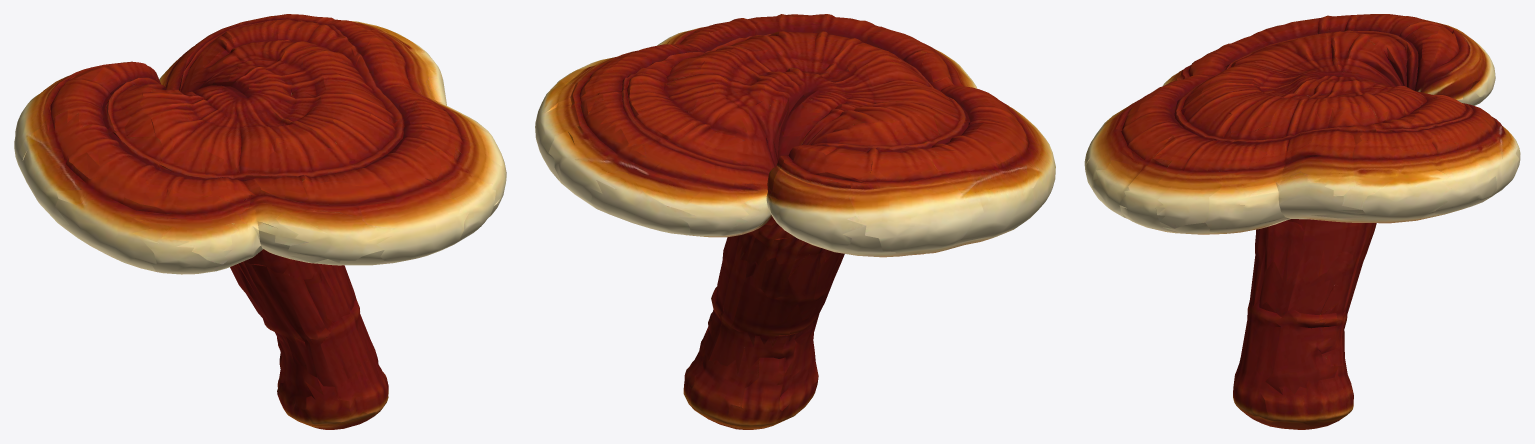
The model's file is reishi.glb.
3 views of the same model, side by side, from view 1: azimuth 30°, elevation 25°; view 2: azimuth 150°, elevation 25°; view 3: azimuth 270°, elevation 25° (orthographic). The views are drawn at different scales.
Parts seen in each view (by area): view 1: output_unwrapped; view 2: output_unwrapped; view 3: output_unwrapped.
Part boxes in pixels (left/top/right/bottom): output_unwrapped: left=14, top=14, right=506, bottom=429; output_unwrapped: left=535, top=14, right=1055, bottom=429; output_unwrapped: left=1084, top=14, right=1520, bottom=429.
Size of the model in its own units: 1.9 by 1.55 by 1.86.
Materials: 1 (1 with a texture image).
